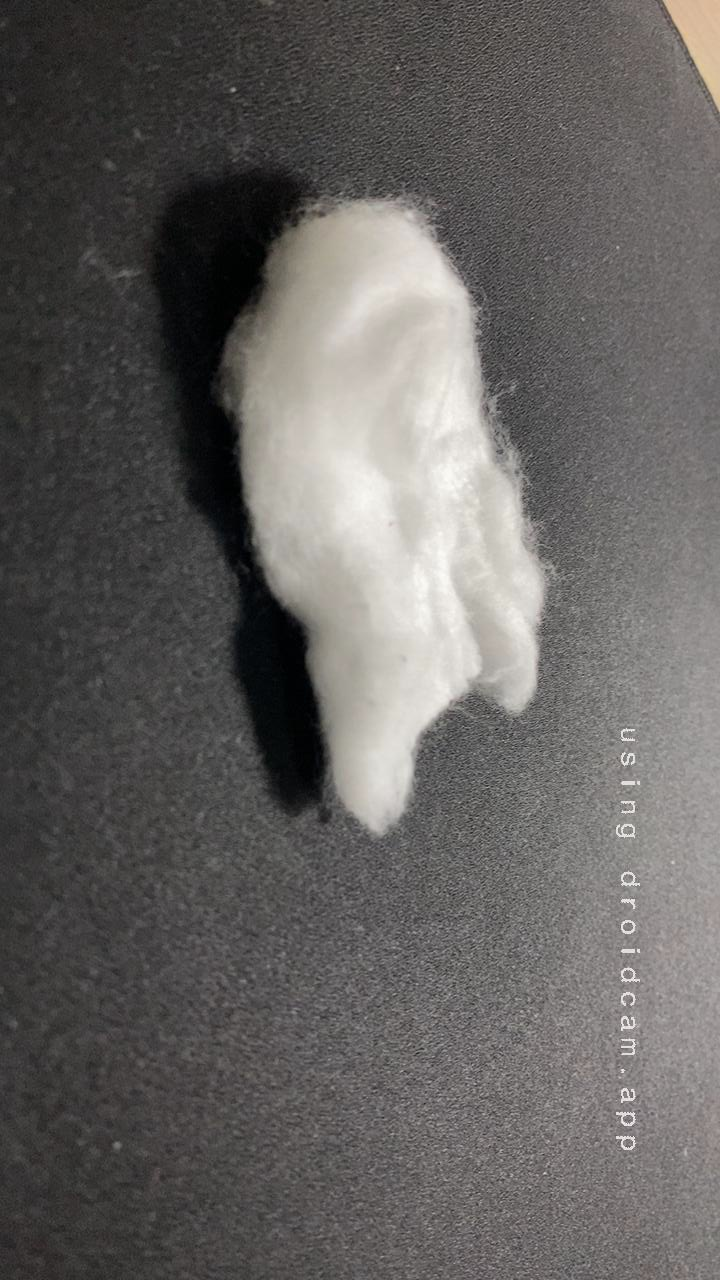cotton: (178, 180, 623, 861)
